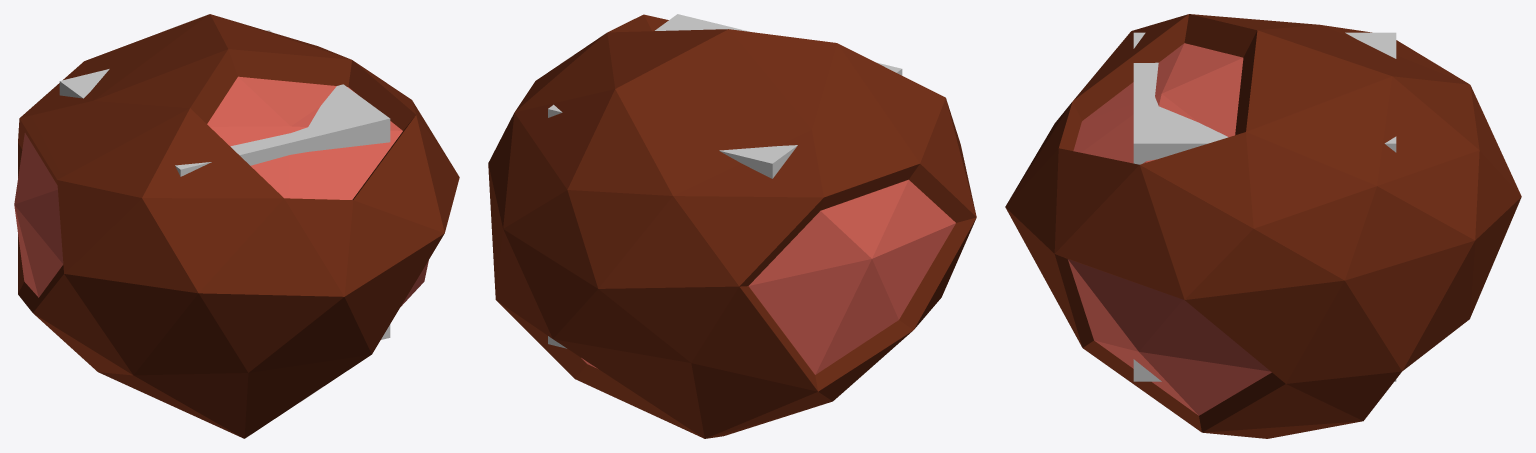
The model's file is Meteor.fbx.
The picture shows the model from 3 angles, left to right: view 1: azimuth 30°, elevation 25°; view 2: azimuth 150°, elevation 25°; view 3: azimuth 270°, elevation 25°; orthographic projection. The views are drawn at different scales.
Visible parts, largest first — view 1: Icosphere, Cube; view 2: Icosphere, Cube; view 3: Icosphere, Cube.
Part boxes in pixels (<box>): Icosphere: <box>14,14,459,438</box>; Cube: <box>59,30,390,339</box>; Icosphere: <box>488,14,976,438</box>; Cube: <box>548,14,902,348</box>; Icosphere: <box>1005,14,1521,438</box>; Cube: <box>1133,32,1396,381</box>.
Bounding box in the file's own units: 378 × 343 × 393.
